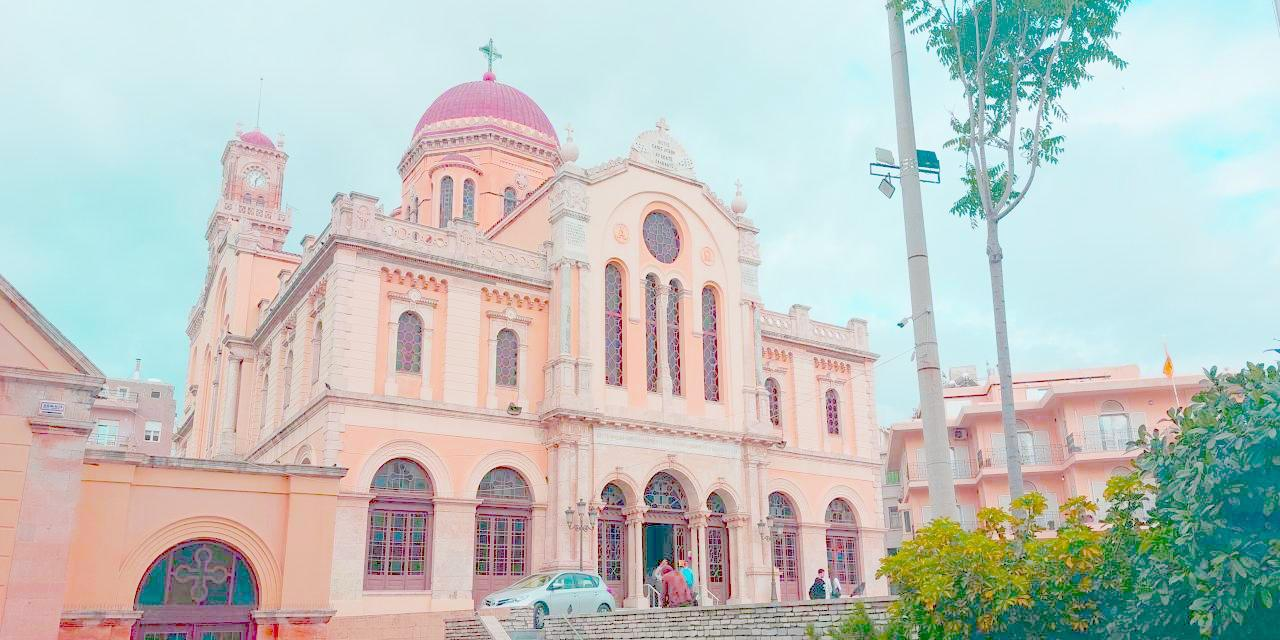Agios Minas: (172, 34, 897, 602)
